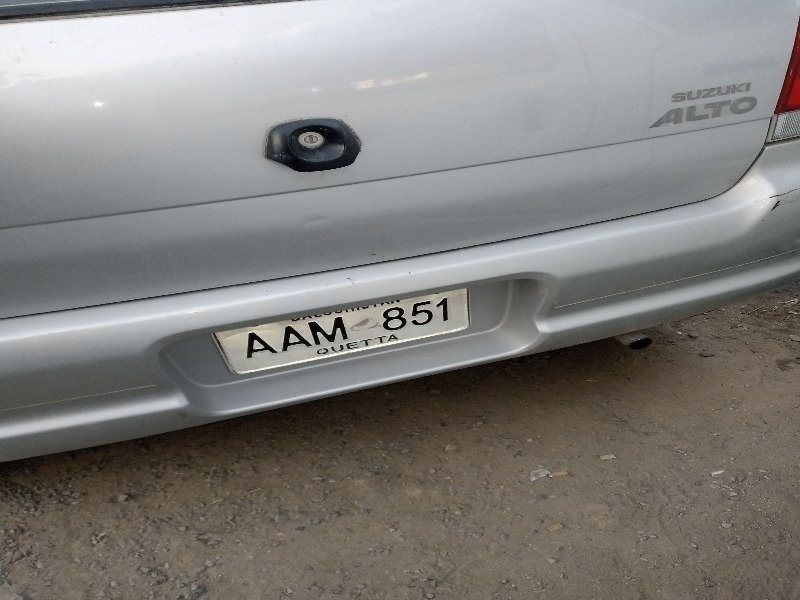License Plate: (215, 286, 477, 377)
